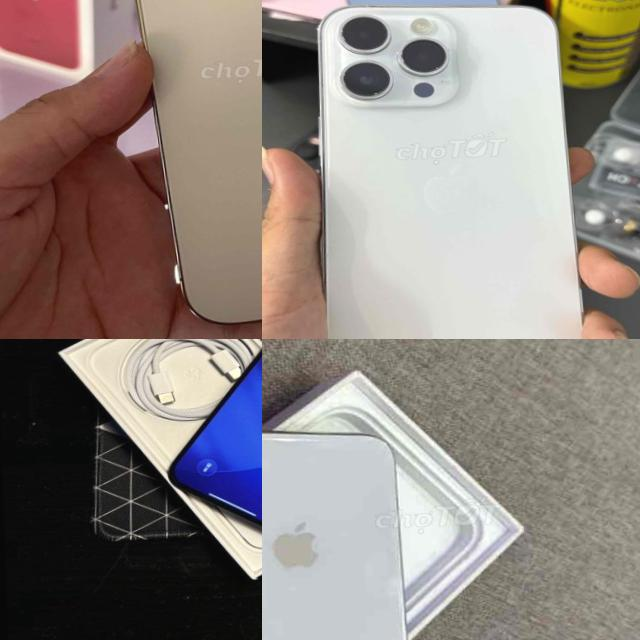gen_12_13: (108, 0, 262, 334)
gen_14: (306, 0, 597, 339)
gen_15: (153, 339, 262, 554)
gen_x_xs: (262, 420, 438, 640)
